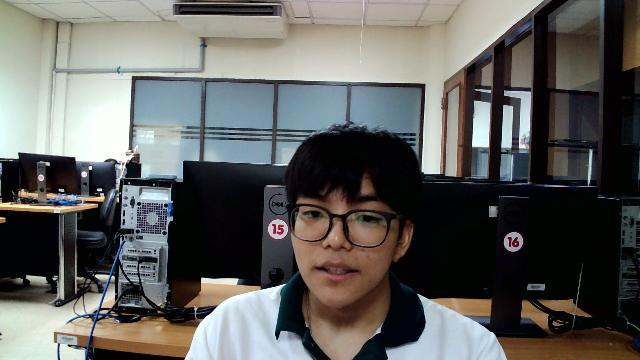fokus: (290, 179, 395, 308)
